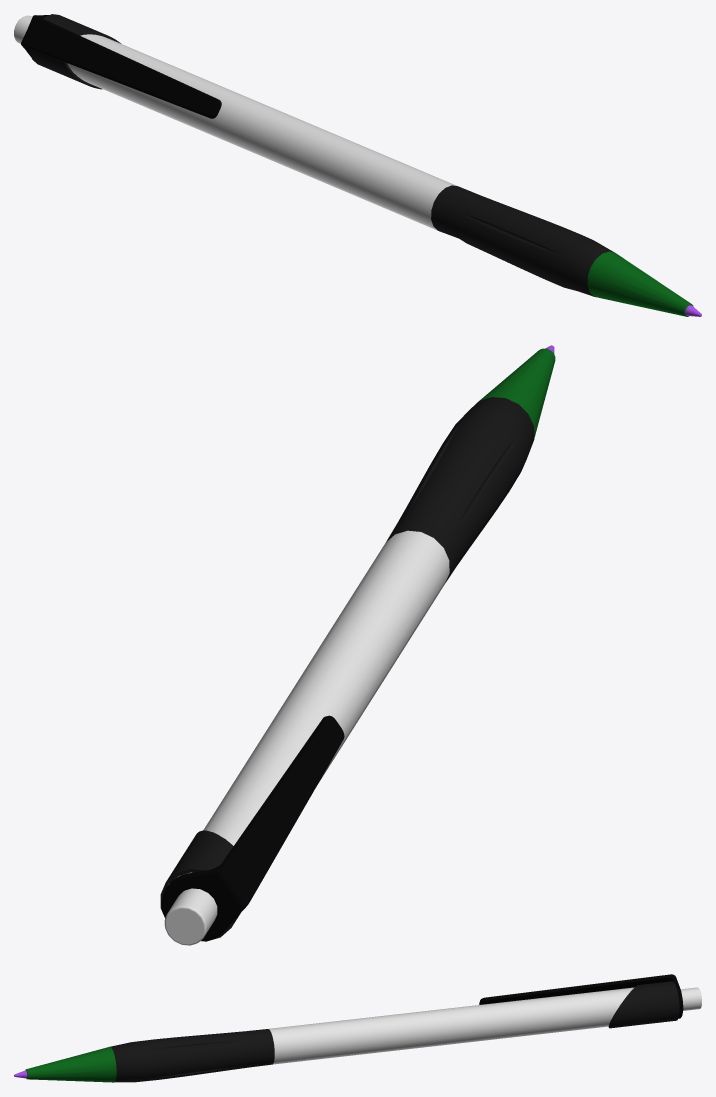
File: Pen 1.FBX
The picture shows the model from 3 angles, top to bottom: view 1: azimuth 30°, elevation 25°; view 2: azimuth 150°, elevation 25°; view 3: azimuth 270°, elevation 25°; orthographic projection. The views are drawn at different scales.
Parts seen in each view (by area): view 1: object_30, object_31, object_33, object_36, object_34; view 2: object_30, object_31, object_33, object_36, object_32, object_34; view 3: object_30, object_31, object_34, object_36, object_33, object_32.
Boxes of the visible parts, <box> form: object_30: <box>67,34,456,230</box>; object_31: <box>431,185,614,296</box>; object_33: <box>21,15,221,118</box>; object_36: <box>587,251,693,316</box>; object_34: <box>29,14,121,89</box>; object_30: <box>169,530,449,884</box>; object_31: <box>386,397,534,583</box>; object_33: <box>161,715,344,940</box>; object_36: <box>475,348,555,437</box>; object_32: <box>164,888,217,945</box>; object_34: <box>160,830,240,941</box>; object_30: <box>269,987,634,1064</box>; object_31: <box>110,1029,274,1082</box>; object_34: <box>608,981,679,1028</box>; object_36: <box>25,1047,116,1082</box>; object_33: <box>479,974,683,1018</box>; object_32: <box>680,987,701,1010</box>.
Size of the model in its own units: 45.14 by 152 by 9.6.
